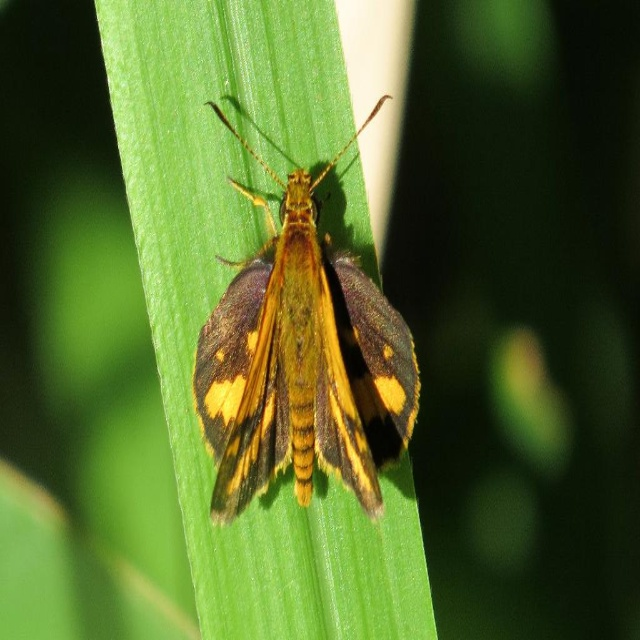Butterfly: (175, 74, 413, 503)
